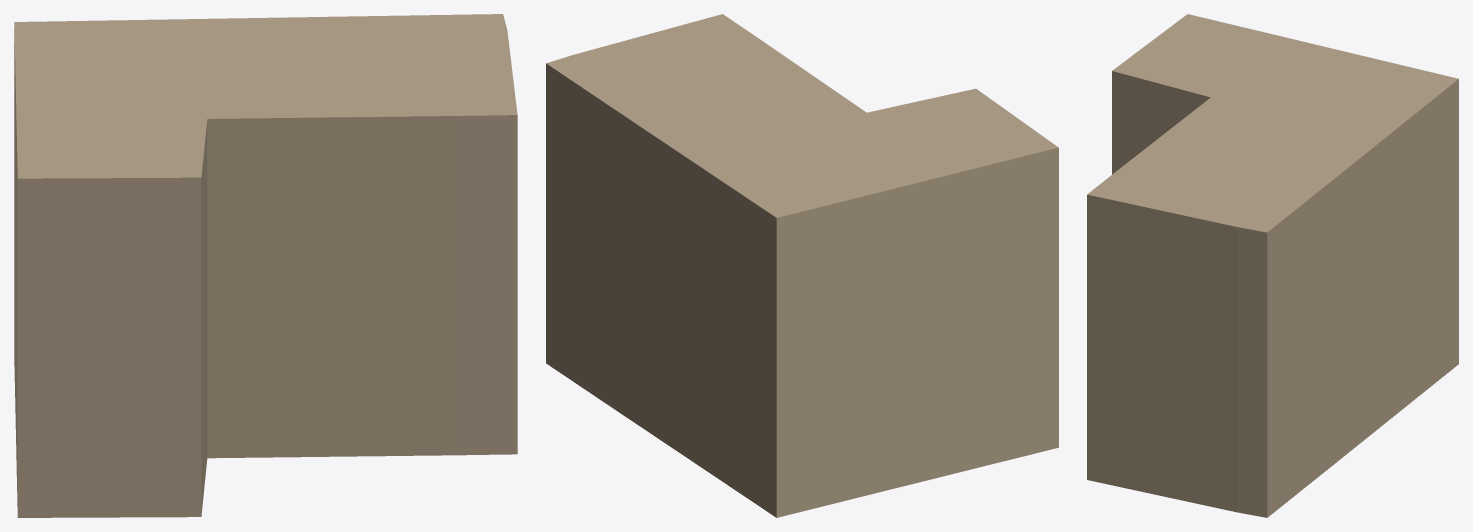
File: bld_98821437.dae
The picture shows the model from 3 angles, left to right: view 1: azimuth 30°, elevation 25°; view 2: azimuth 150°, elevation 25°; view 3: azimuth 270°, elevation 25°; orthographic projection. The views are drawn at different scales.
Parts seen in each view (by area): view 1: Maldon Brewing Co; view 2: Maldon Brewing Co; view 3: Maldon Brewing Co.
Part boxes in pixels (x1,y1,x2,y2): Maldon Brewing Co: (14, 14, 517, 517); Maldon Brewing Co: (546, 14, 1058, 517); Maldon Brewing Co: (1087, 14, 1458, 517).
Bounding box in the file's own units: 13.14 × 9.45 × 8.
